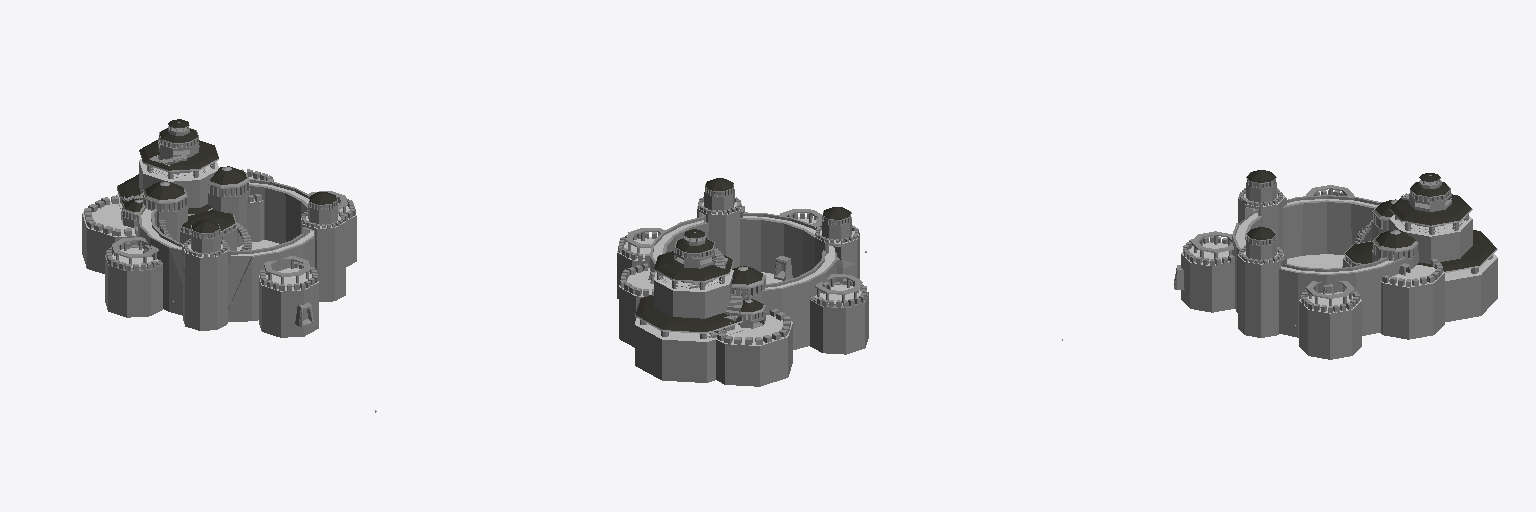
The model's file is castle.obj.
3 renders of one model, left to right at view 1: azimuth 30°, elevation 25°; view 2: azimuth 150°, elevation 25°; view 3: azimuth 270°, elevation 25°, orthographic.
Visible parts, largest first — view 1: castle.001; view 2: castle.001; view 3: castle.001.
Part boxes in pixels (x1,y1,x2,y2): castle.001: (82, 119, 356, 337); castle.001: (617, 178, 868, 386); castle.001: (1174, 170, 1497, 359).
Size of the model in its own units: 350 by 216 by 539.